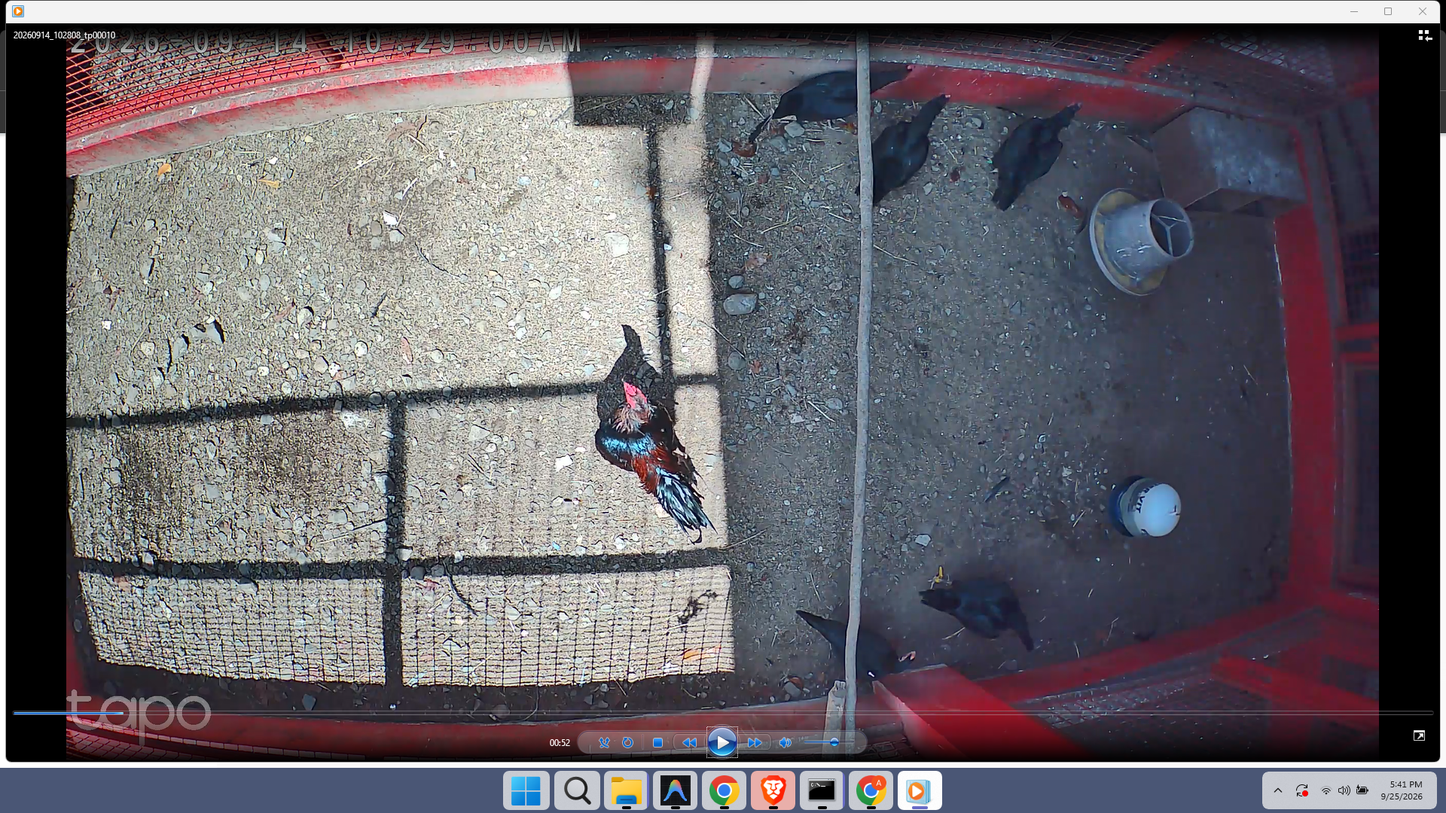Chicken: (975, 98, 1084, 213), (853, 89, 953, 212), (761, 59, 918, 129), (915, 575, 1042, 657), (792, 607, 920, 681)
Drinker: (1107, 476, 1184, 538)
Feeder: (1087, 186, 1195, 298)
Rooster: (596, 381, 720, 542)
